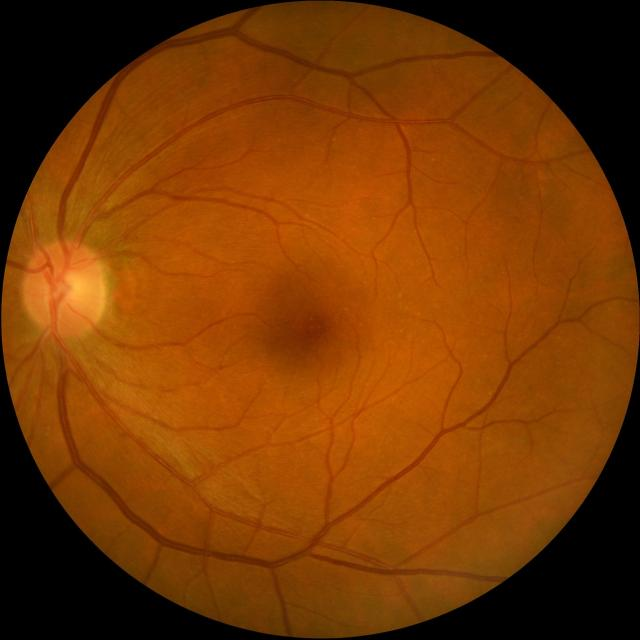OC: (48, 269, 84, 307)
OD: (20, 240, 106, 337)
